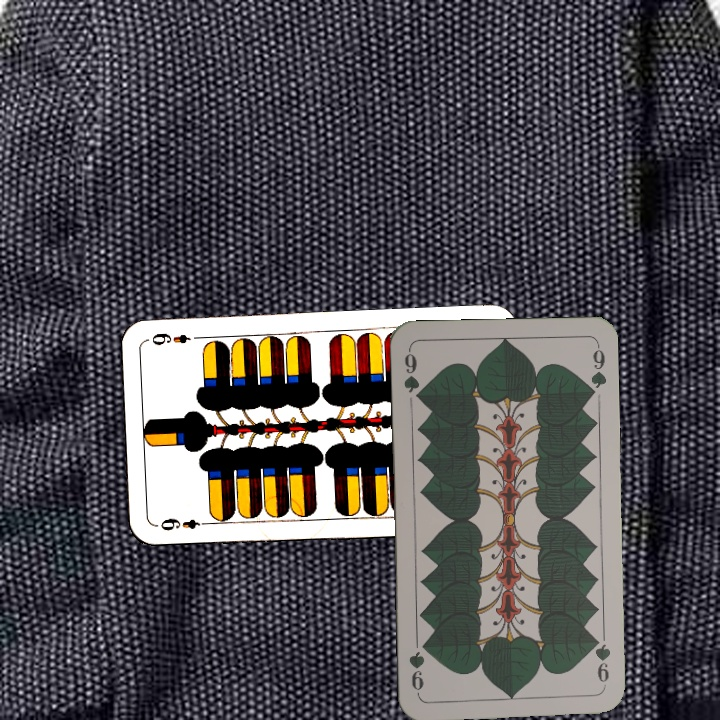E9: (157, 514, 213, 534)
G9: (399, 346, 425, 404), (589, 631, 614, 690)
